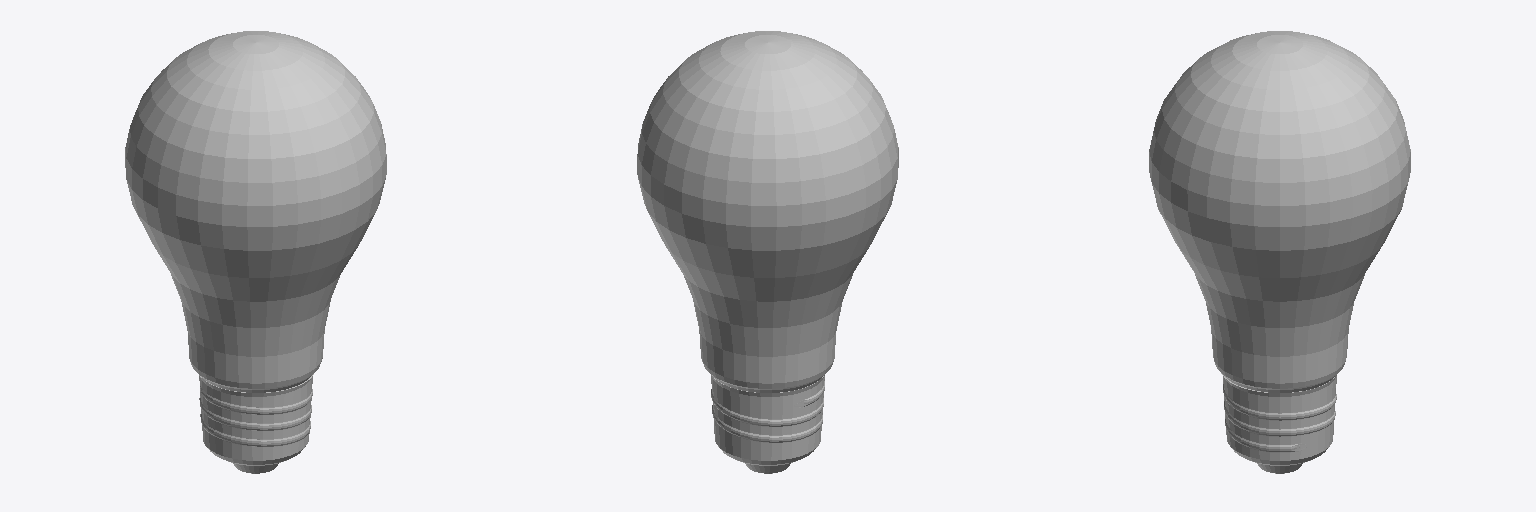
File: bulb.obj
The picture shows the model from 3 angles: view 1: azimuth 30°, elevation 25°; view 2: azimuth 150°, elevation 25°; view 3: azimuth 270°, elevation 25°; orthographic projection.
Visible parts, largest first — view 1: Sphere; view 2: Sphere; view 3: Sphere.
Boxes of the visible parts, x1,y1,x2,y2 form: Sphere: [125, 31, 386, 473]; Sphere: [637, 31, 898, 473]; Sphere: [1149, 31, 1410, 473].
Bounding box in the file's own units: 4.96 × 8.93 × 4.96.